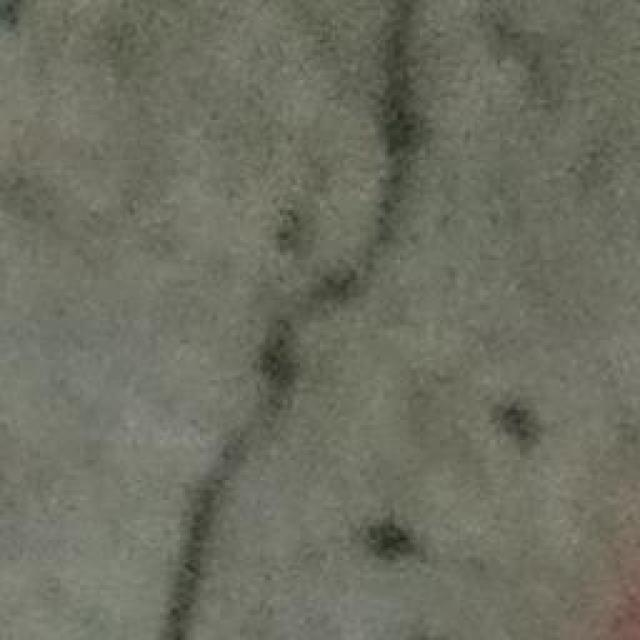Longitudinal: (160, 0, 421, 640)
